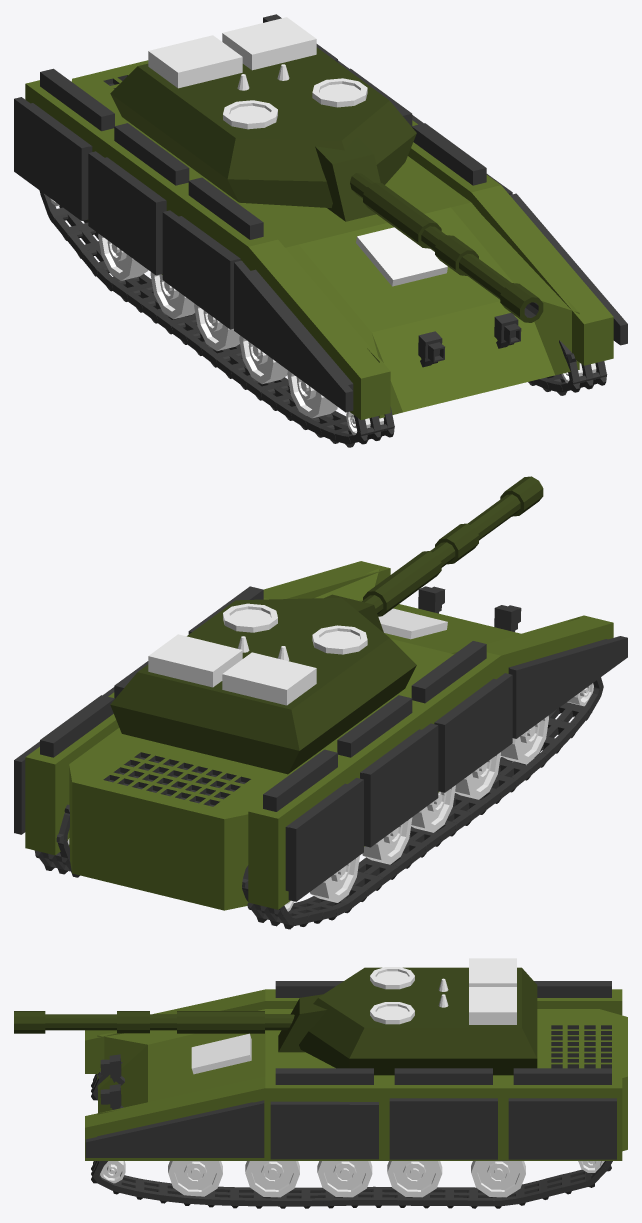
The model's file is LightTank.fbx.
The picture shows the model from 3 angles, top to bottom: view 1: azimuth 30°, elevation 25°; view 2: azimuth 150°, elevation 25°; view 3: azimuth 270°, elevation 25°; orthographic projection. The views are drawn at different scales.
Visible parts, largest first — view 1: Cube.008, Cube.009, Cube.001, Cube.002, Cylinder.030, Cube.010, Cube.003, Cylinder.032, Cylinder.031, Cylinder.033, Cylinder.035, Cylinder.034; view 2: Cube.008, Cube.009, Cube.001, Cube.002, Cylinder.030, Cube.010, Cylinder.031, Cylinder.034, Cylinder.035, Cylinder.033, Cylinder.032, Cube.003; view 3: Cube.008, Cube.009, Cube.003, Cylinder.030, Cube.001, Cylinder.005, Cylinder.004, Cylinder.003, Cylinder.006, Cube.010, Cylinder.002, Cylinder.007.
Boxes of the visible parts, x1,y1,x2,y2 form: Cube.008: [14, 14, 627, 419]; Cube.009: [110, 47, 416, 221]; Cube.001: [148, 17, 367, 129]; Cube.002: [39, 190, 394, 447]; Cylinder.030: [350, 173, 543, 322]; Cube.010: [356, 227, 447, 286]; Cube.003: [528, 340, 607, 395]; Cylinder.032: [239, 335, 287, 384]; Cylinder.031: [287, 370, 337, 418]; Cylinder.033: [194, 303, 239, 350]; Cylinder.035: [98, 233, 148, 280]; Cylinder.034: [150, 272, 194, 319]; Cube.008: [14, 561, 627, 910]; Cube.009: [110, 594, 416, 774]; Cube.001: [148, 603, 367, 705]; Cube.002: [242, 677, 603, 929]; Cylinder.030: [362, 476, 543, 616]; Cube.010: [378, 608, 447, 639]; Cylinder.031: [500, 715, 548, 764]; Cylinder.034: [362, 817, 412, 864]; Cylinder.035: [310, 856, 359, 902]; Cylinder.033: [411, 785, 455, 832]; Cylinder.032: [455, 752, 500, 799]; Cube.003: [34, 804, 79, 877]; Cube.008: [85, 981, 627, 1160]; Cube.009: [278, 967, 537, 1075]; Cube.003: [91, 1161, 612, 1208]; Cylinder.030: [14, 1011, 294, 1033]; Cube.001: [370, 958, 516, 1024]; Cylinder.005: [387, 1161, 442, 1197]; Cylinder.004: [317, 1161, 372, 1197]; Cylinder.003: [245, 1161, 299, 1197]; Cylinder.006: [471, 1161, 525, 1197]; Cube.010: [191, 1033, 251, 1074]; Cylinder.002: [168, 1161, 222, 1196]; Cylinder.007: [100, 1161, 125, 1183].
Bounding box in the file's own units: 2.05 × 1.52 × 4.83.
